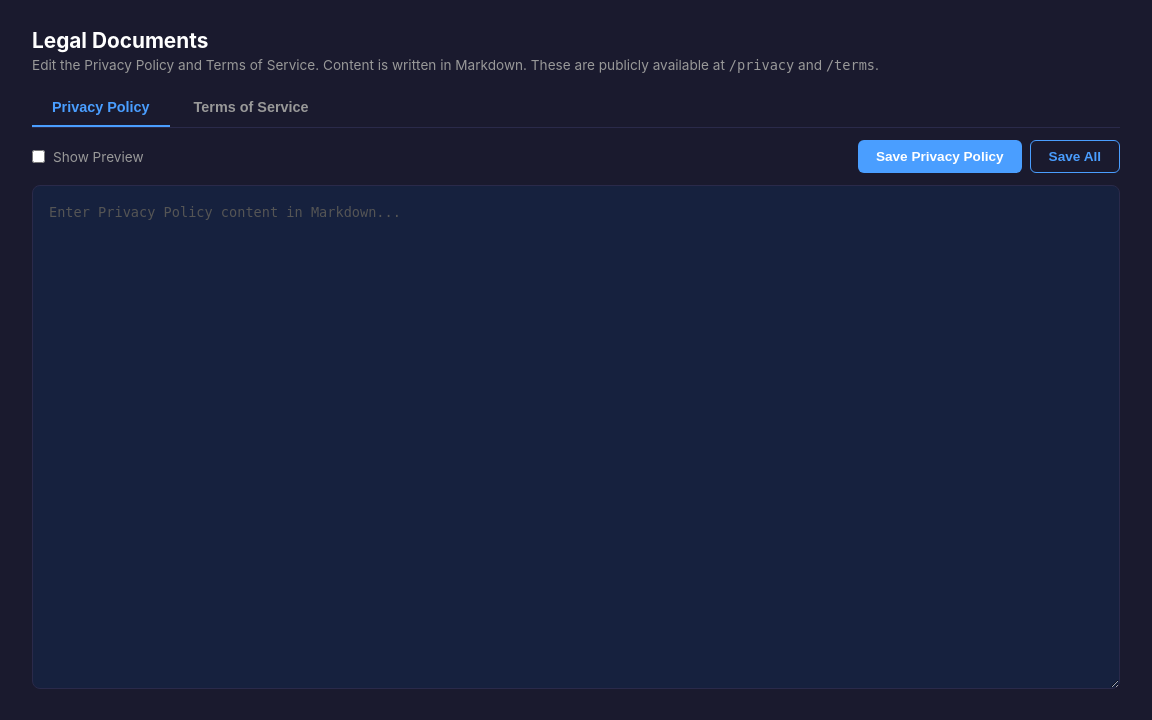
Test: AdminLegalPage › shows 'No content to preview' when textarea is empty
Click the checkbox: [38, 156] box [32,150,45,163]
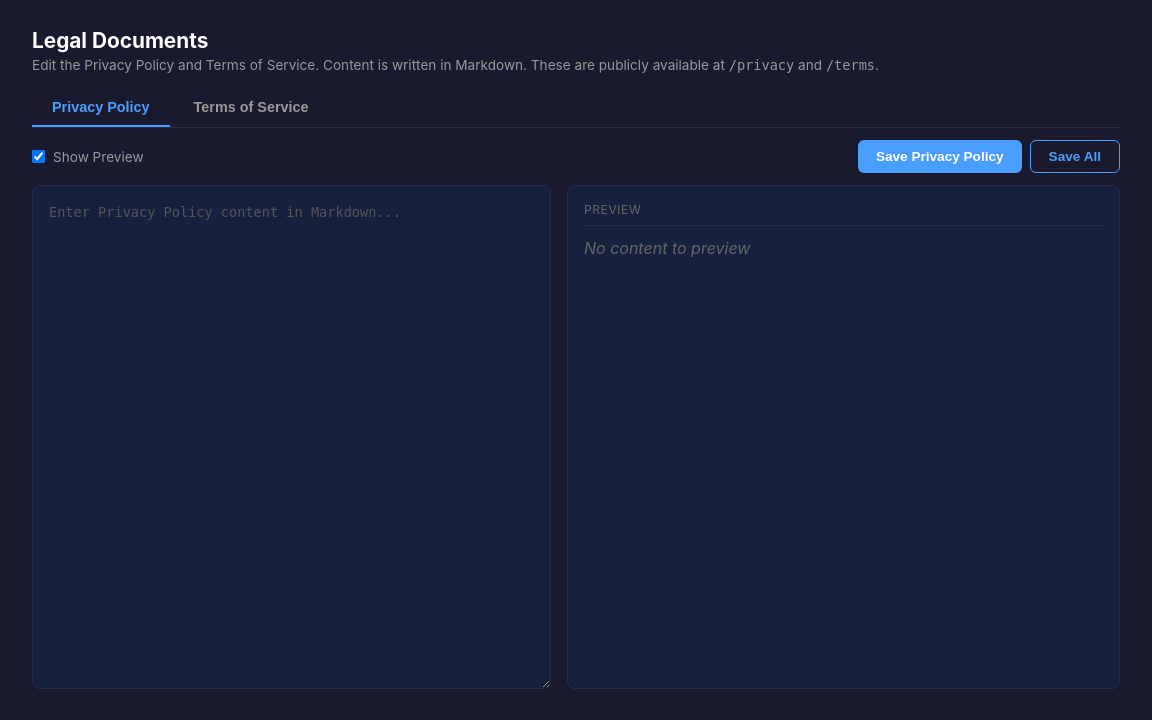
Result: the text "No content to preview" is shown at [584,238,750,258]
